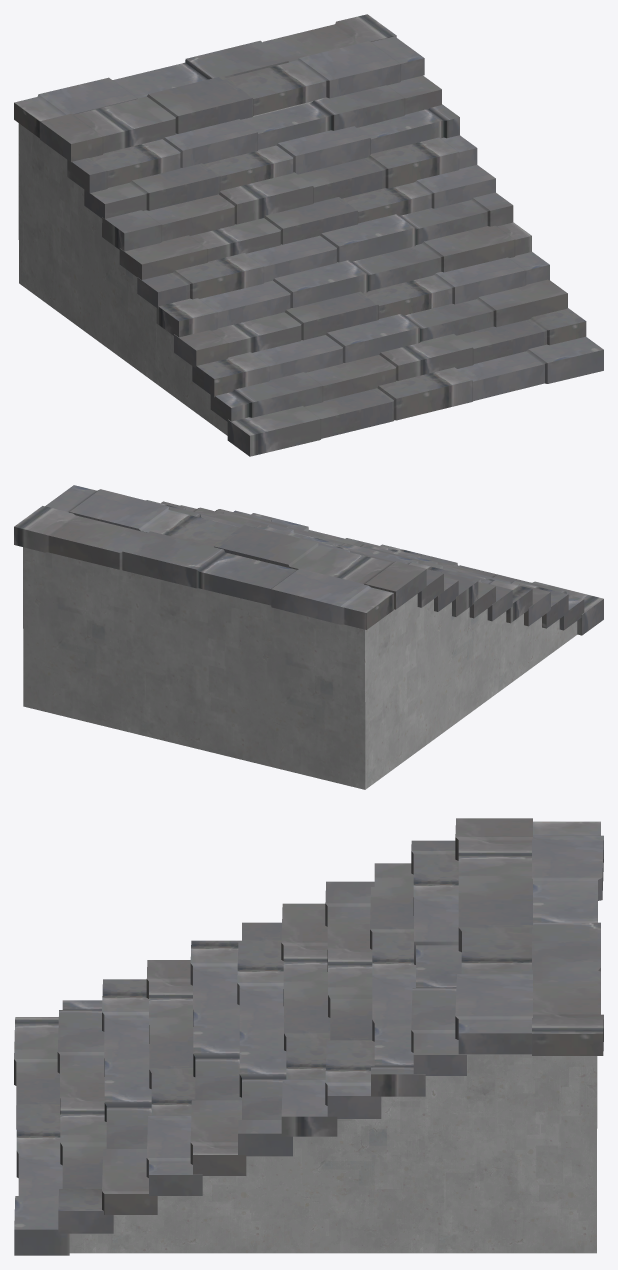
File: SM_Alt_Sta_05AM.fbx
The picture shows the model from 3 angles, top to bottom: view 1: azimuth 30°, elevation 25°; view 2: azimuth 150°, elevation 25°; view 3: azimuth 270°, elevation 25°; orthographic projection. The views are drawn at different scales.
Visible parts, largest first — view 1: SM_Alt_Sta_05AM.mo; view 2: SM_Alt_Sta_05AM.mo; view 3: SM_Alt_Sta_05AM.mo.
Boxes of the visible parts, x1,y1,x2,y2 form: SM_Alt_Sta_05AM.mo: (14, 14, 603, 456); SM_Alt_Sta_05AM.mo: (14, 485, 603, 789); SM_Alt_Sta_05AM.mo: (14, 818, 603, 1255).
Size of the model in its own units: 6.2 by 3.04 by 7.21.
